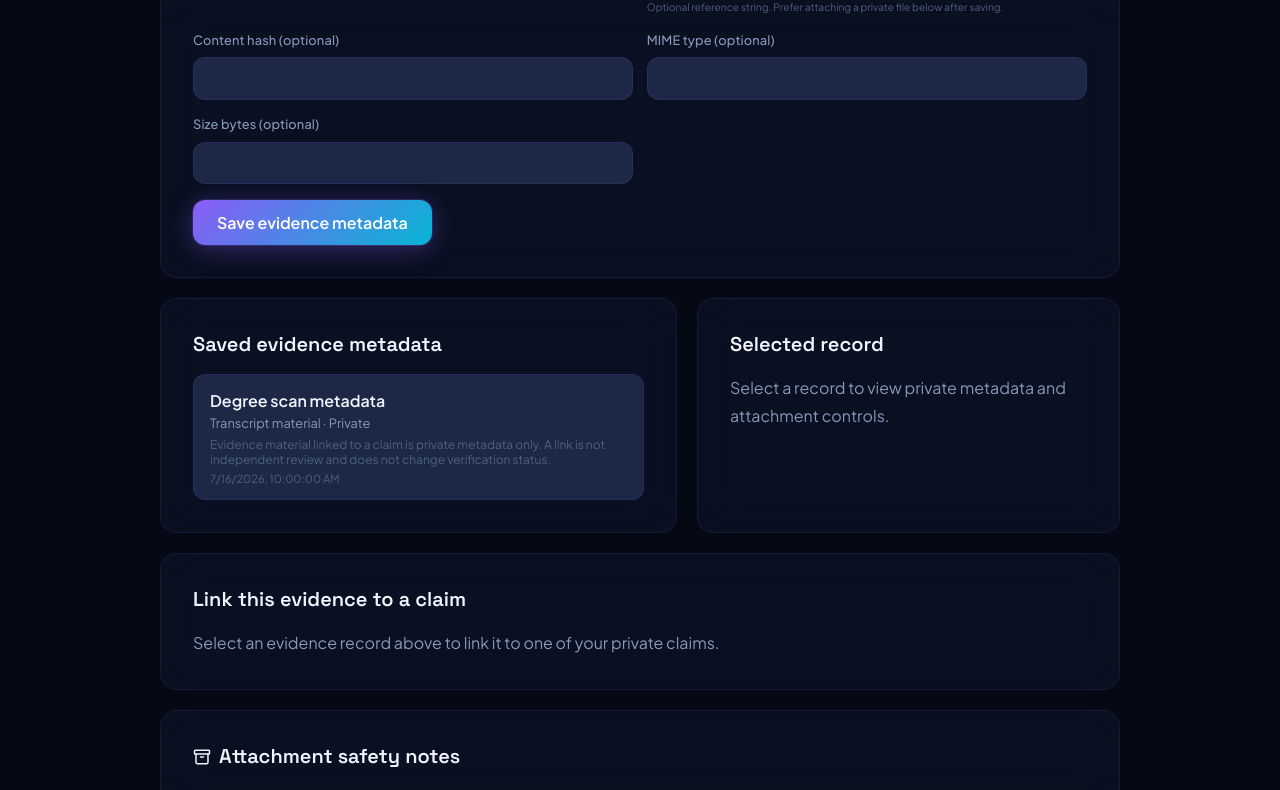
Test: EvidenceLibraryPage F6/F7 boundary › selected evidence shows attachment section with attach control
(page scrolled)
Step 1. Click the text "Degree scan metadata" → (298, 400), box [210,390,385,411]
(page scrolled)
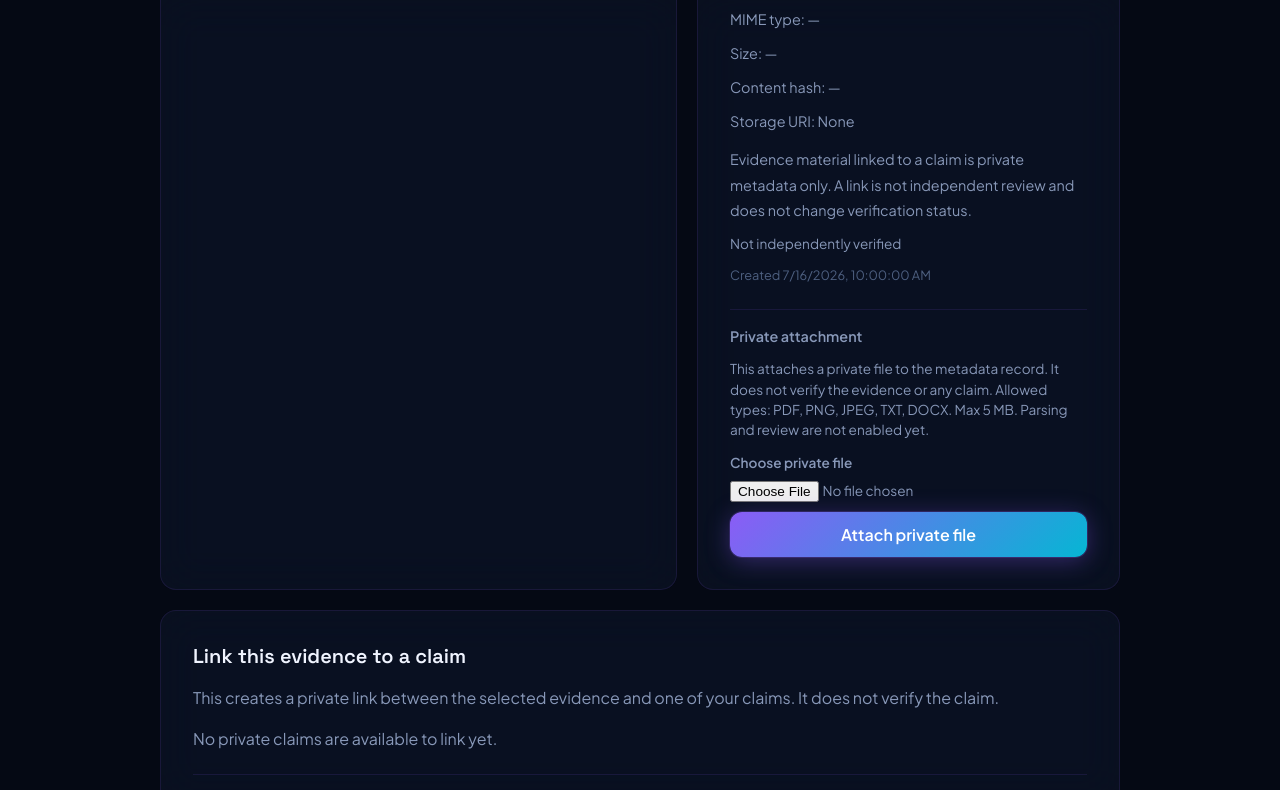
Expected: the button "Attach private file" is shown, [730,512,1087,557]
Expected: the text "Max 5 MB" is shown, [730,360,1068,438]
